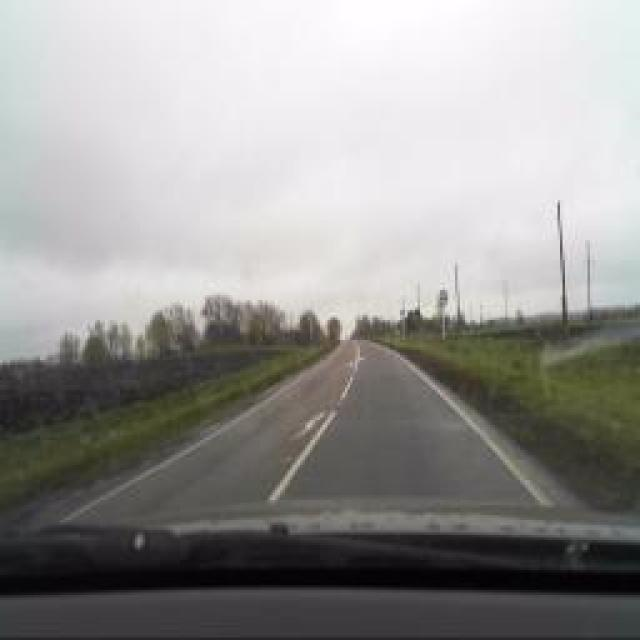sign: (439, 288, 449, 308)
